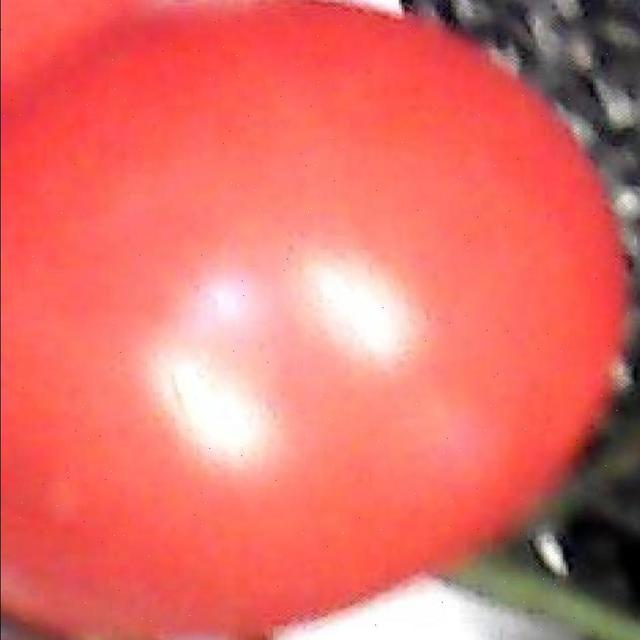Healthy Fruit: (0, 3, 427, 422)
